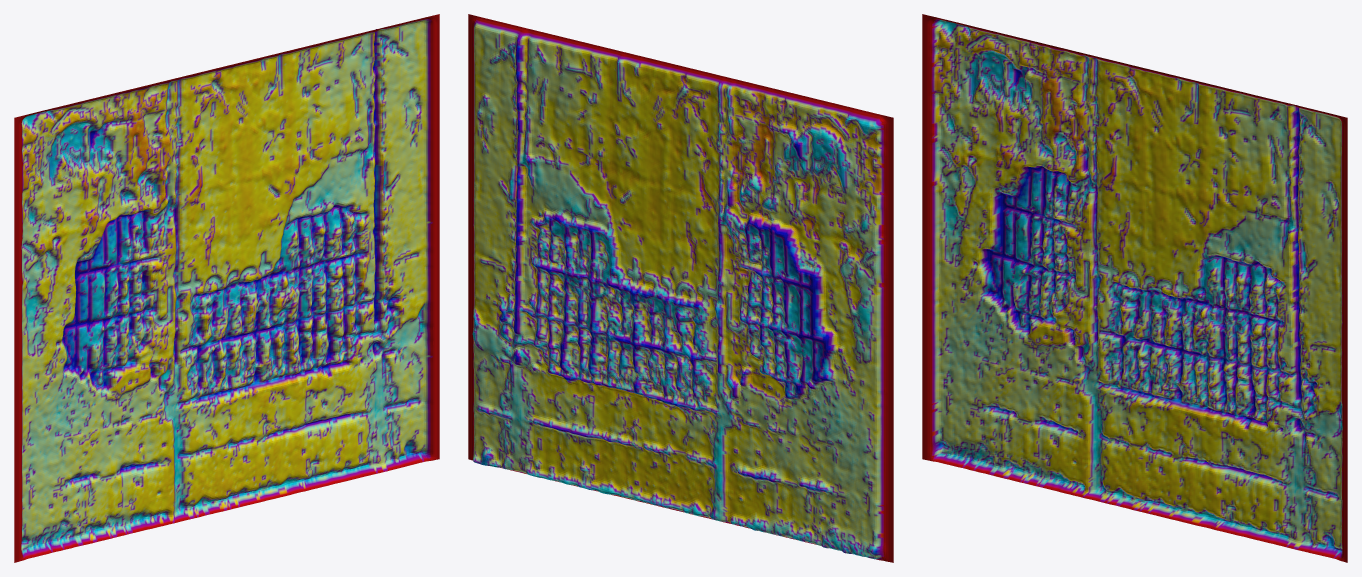
3 views of the same model, side by side, from view 1: azimuth 30°, elevation 25°; view 2: azimuth 150°, elevation 25°; view 3: azimuth 330°, elevation 25° (orthographic).
Visible parts, largest first — view 1: world; view 2: world; view 3: world.
Boxes of the visible parts, x1,y1,x2,y2 form: world: [14, 14, 439, 562]; world: [468, 14, 893, 562]; world: [922, 14, 1347, 562].
Bounding box in the file's own units: 299 × 299 × 12.
